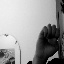e: (33, 23, 61, 56)
